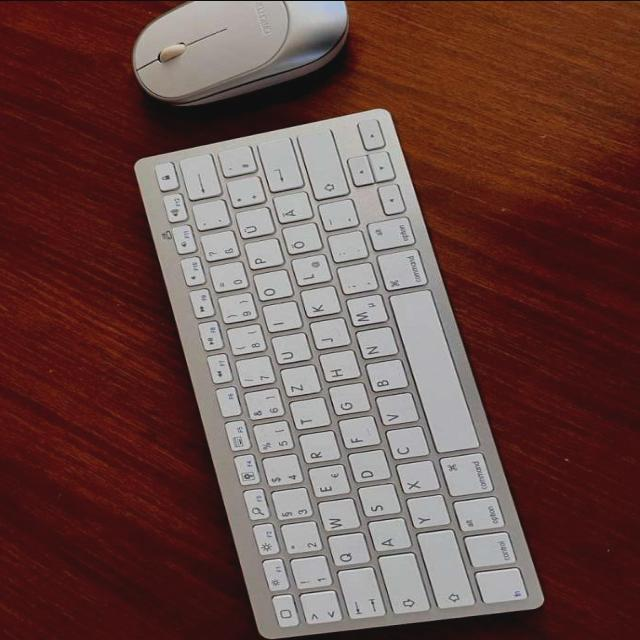0: (206, 263, 245, 295)
1: (287, 556, 330, 590)
2: (277, 522, 319, 556)
3: (268, 489, 310, 523)
4: (259, 456, 300, 488)
5: (250, 423, 291, 455)
6: (240, 390, 281, 422)
7: (233, 357, 273, 389)
8: (224, 325, 264, 357)
9: (214, 294, 254, 326)
a: (364, 520, 408, 554)
accent: (189, 201, 227, 233)
ae: (269, 193, 310, 225)
alt-left: (450, 497, 504, 534)
altgr-right: (364, 217, 414, 252)
b: (362, 361, 406, 395)
c: (381, 427, 427, 461)
comma: (333, 265, 376, 297)
d: (343, 451, 389, 485)
del: (177, 156, 219, 202)
e: (304, 465, 347, 499)
enter: (254, 139, 302, 195)
f: (334, 417, 378, 451)
g: (325, 385, 368, 417)
h: (316, 352, 358, 384)
hash: (215, 147, 254, 179)
i: (259, 304, 299, 334)
j: (306, 320, 348, 352)
k: (296, 288, 338, 320)
keyboard: (123, 98, 550, 640)
l: (287, 256, 329, 288)
less: (296, 592, 340, 626)
m: (343, 296, 385, 330)
minus: (315, 201, 357, 233)
n: (352, 329, 395, 361)
o: (250, 272, 291, 304)
oe: (278, 225, 319, 257)
p: (240, 240, 281, 272)
plus: (223, 178, 263, 210)
point: (324, 233, 366, 265)
q: (324, 534, 368, 568)
r: (295, 433, 338, 465)
s: (354, 486, 400, 520)
shift-left: (412, 530, 472, 610)
shift-lock: (373, 554, 428, 615)
shift-right: (295, 130, 346, 202)
space: (384, 291, 478, 455)
ss: (198, 232, 236, 264)
strg-left: (460, 532, 516, 570)
t: (286, 400, 328, 432)
tab: (332, 569, 383, 621)
u: (267, 335, 309, 367)
ue: (232, 209, 273, 241)
v: (372, 394, 416, 428)
w: (314, 500, 358, 534)
x: (393, 462, 437, 496)
y: (403, 496, 447, 530)
z: (276, 367, 318, 399)
